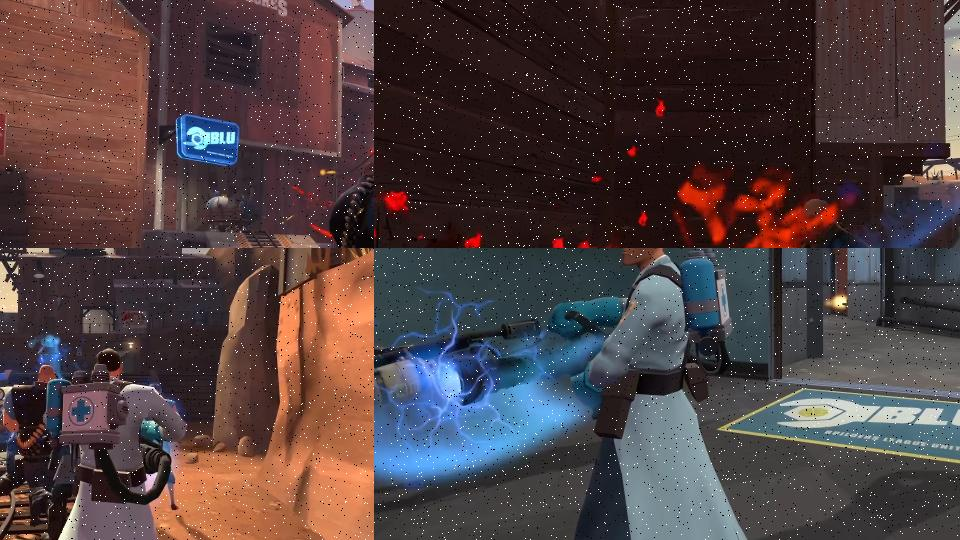Enemy: (445, 248, 750, 540), (25, 348, 196, 540), (0, 362, 78, 534)
